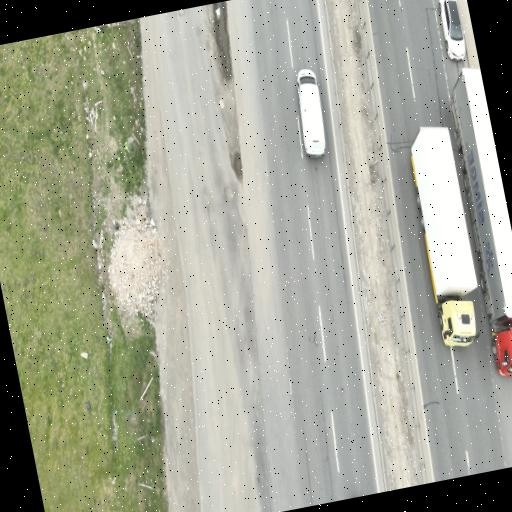car: (296, 69, 324, 156), (438, 0, 465, 60)
truck: (450, 68, 511, 376), (410, 127, 477, 346)
